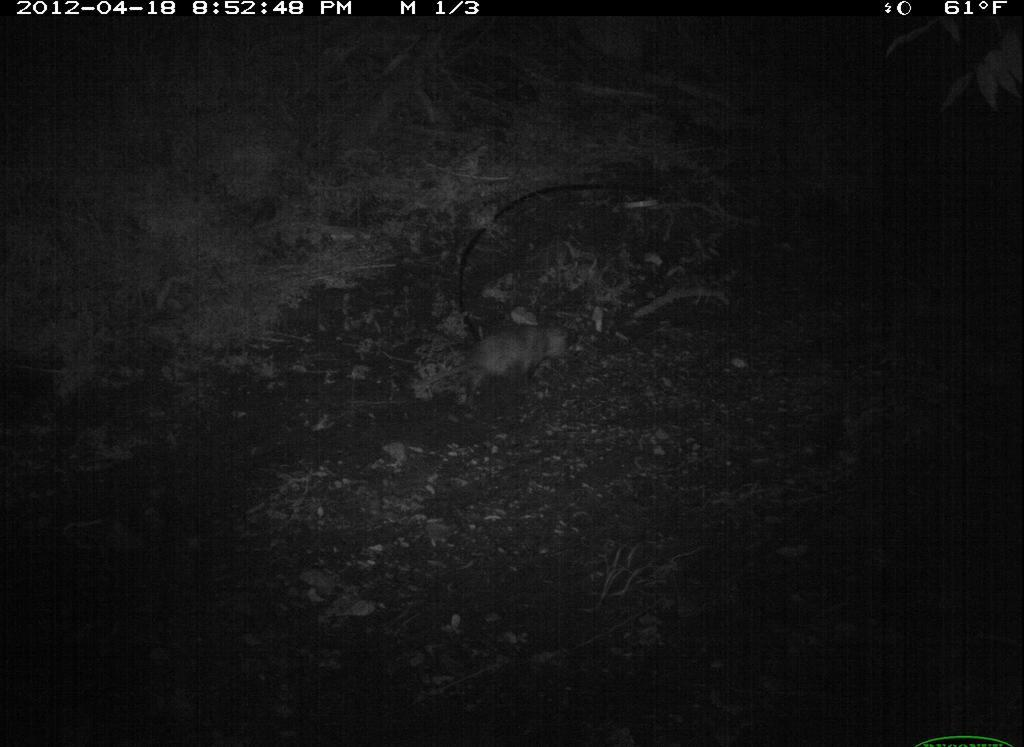opossum: (415, 318, 585, 416)
